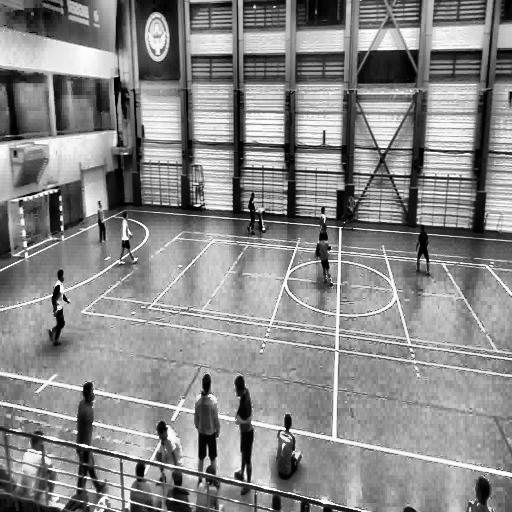ball: (262, 226, 267, 235)
player: (196, 374, 220, 477), (233, 374, 254, 491), (75, 384, 95, 476), (275, 413, 300, 482), (49, 269, 71, 346), (119, 211, 138, 266), (316, 230, 333, 285), (314, 205, 332, 253), (414, 223, 430, 273), (343, 193, 356, 230), (256, 204, 270, 238), (96, 200, 106, 244), (247, 192, 257, 235)
